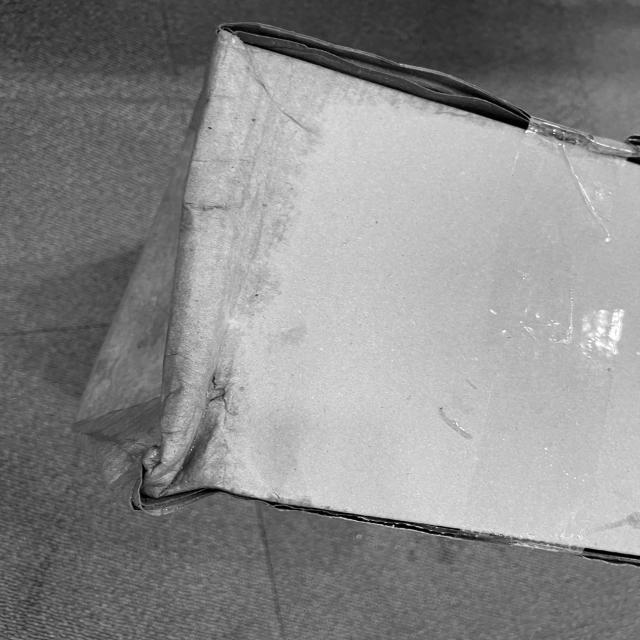wet: (60, 51, 308, 528)
